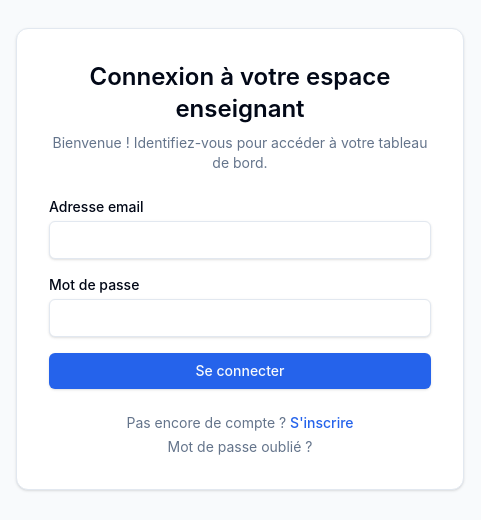
LoginPage › valide localement un email mal formé
Type "pas-un-email" into the field labelled "Adresse email" at (240, 240), box x1=49 y1=221 x2=431 y2=259
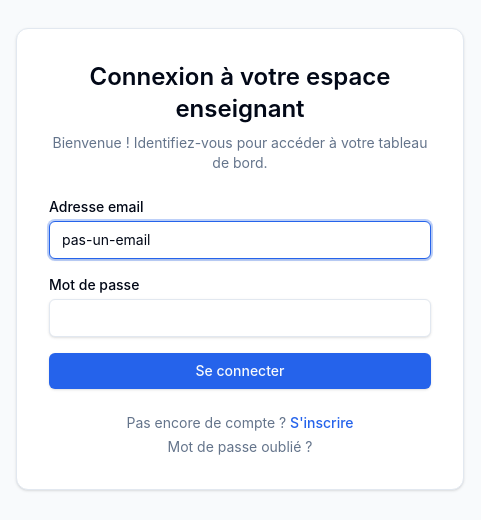
Type "motdepasse" into the password field labelled "Mot de passe" at (240, 318), box x1=49 y1=299 x2=431 y2=337
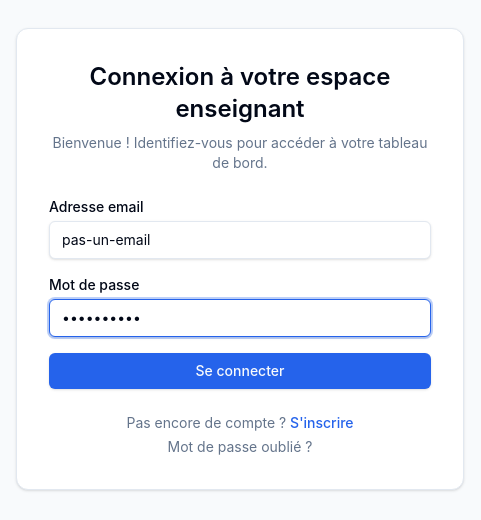
Click the button "Se connecter" at (240, 371), box x1=49 y1=353 x2=431 y2=389
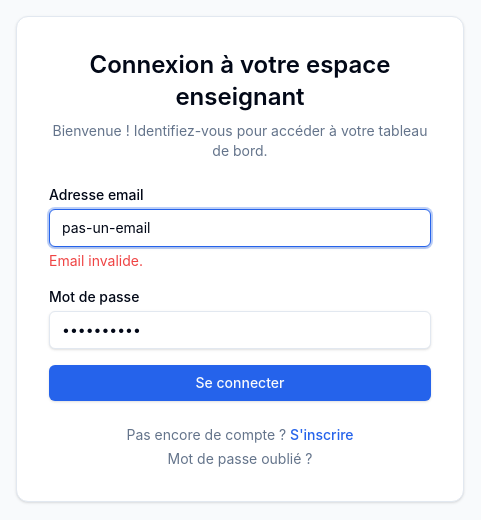
Now the text "Email invalide." is shown, box x1=49 y1=252 x2=143 y2=269
